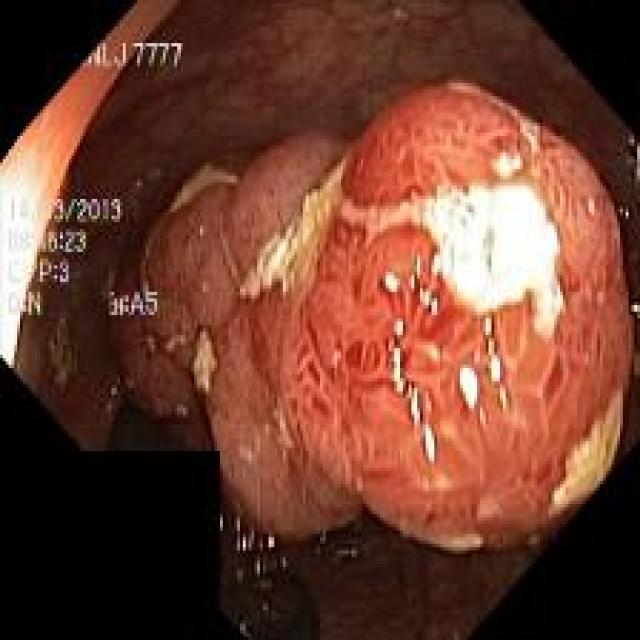Polyps: (110, 83, 631, 553)
